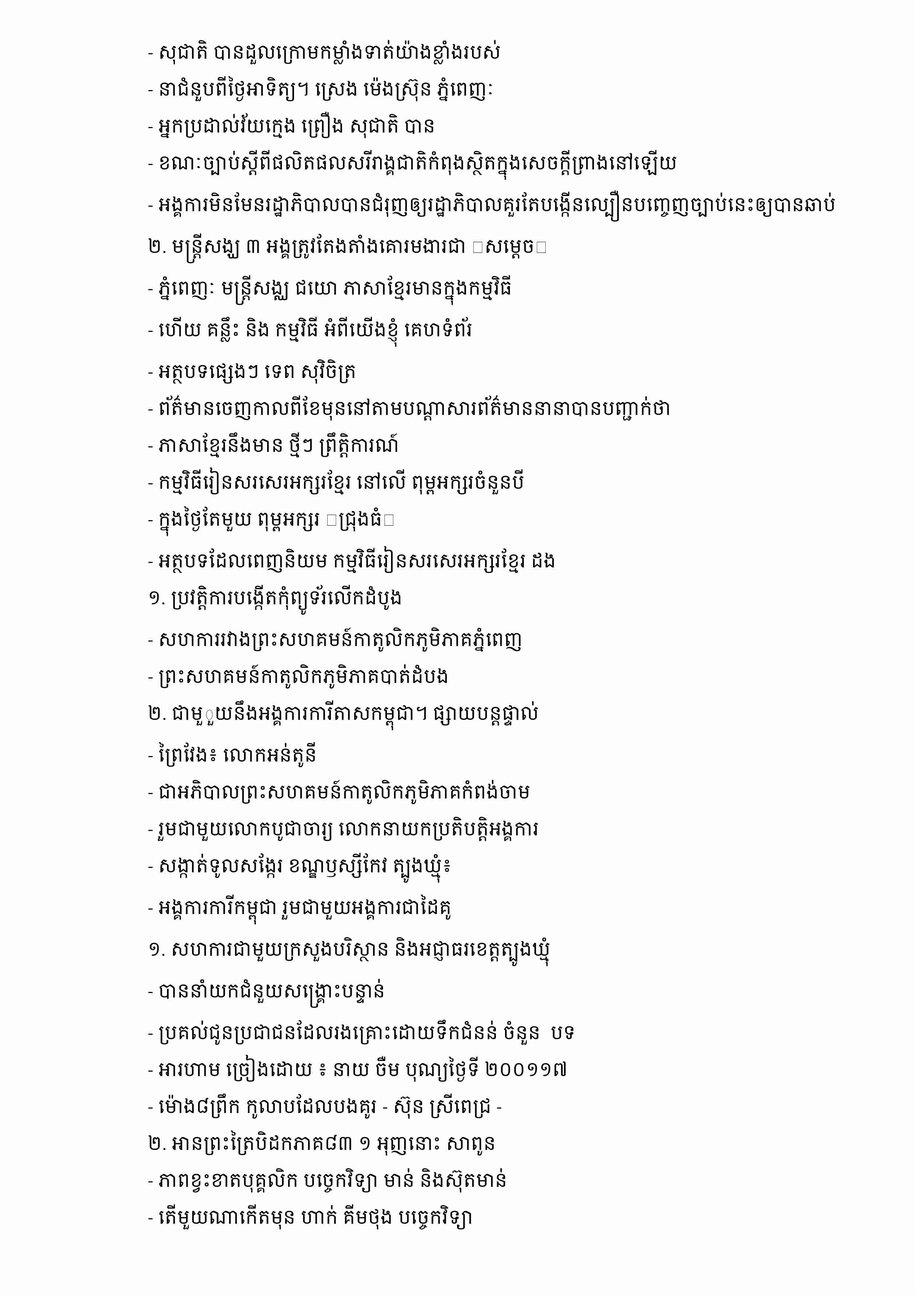text: (148, 190, 841, 222), (148, 150, 682, 180), (148, 395, 676, 421), (148, 233, 553, 264), (148, 700, 544, 731), (148, 937, 555, 966), (148, 1055, 573, 1082), (148, 546, 561, 573), (148, 275, 517, 305), (148, 1020, 581, 1045), (148, 467, 529, 495), (148, 317, 477, 347), (148, 894, 456, 925), (148, 817, 544, 841), (148, 627, 528, 652), (148, 1093, 507, 1119), (148, 780, 535, 804), (148, 853, 457, 883), (148, 1130, 501, 1156), (148, 76, 499, 102), (148, 1168, 512, 1193), (148, 40, 506, 65), (148, 1204, 478, 1230), (148, 111, 440, 138), (148, 585, 407, 615), (148, 664, 454, 689), (148, 506, 400, 536), (148, 979, 390, 1008), (148, 432, 404, 458), (148, 359, 362, 384), (148, 742, 322, 767)
